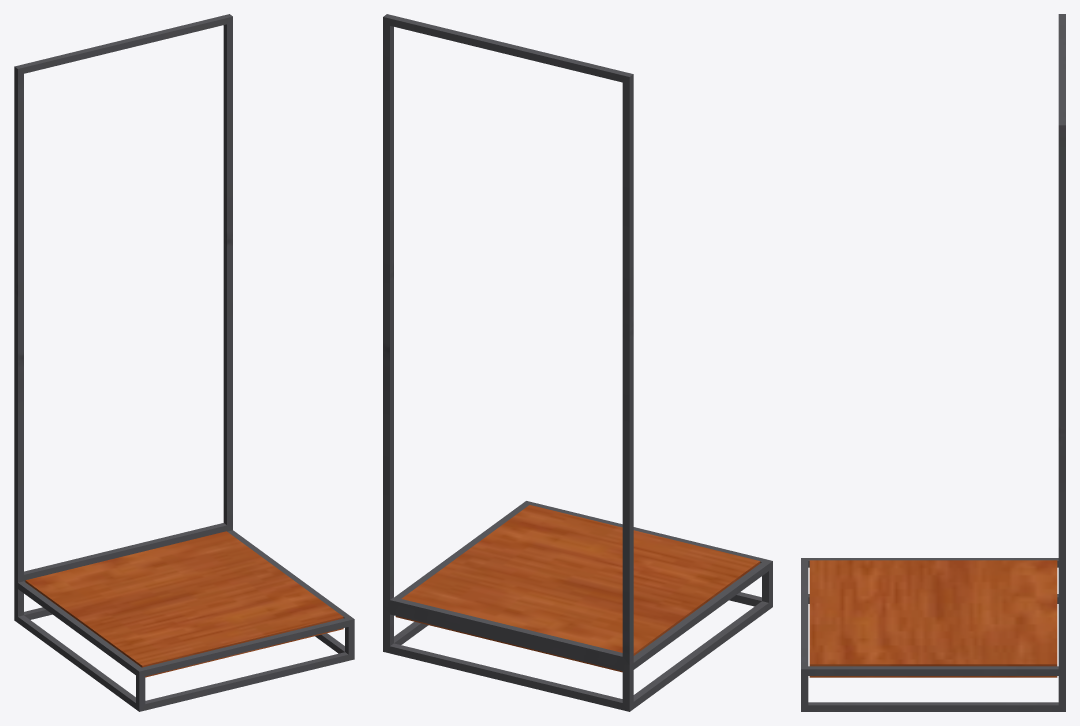
The model's file is shelf-01-a.glb.
The picture shows the model from 3 angles, left to right: view 1: azimuth 30°, elevation 25°; view 2: azimuth 150°, elevation 25°; view 3: azimuth 270°, elevation 25°; orthographic projection. The views are drawn at different scales.
Parts seen in each view (by area): view 1: Shelf_01_a; view 2: Shelf_01_a; view 3: Shelf_01_a.
Boxes of the visible parts, left/top/right/bottom form: Shelf_01_a: left=14, top=14, right=354, bottom=711; Shelf_01_a: left=383, top=14, right=772, bottom=711; Shelf_01_a: left=801, top=14, right=1065, bottom=711.
Size of the model in its own units: 0.8949 by 2.2 by 0.9.
1 material, 1 textured.
